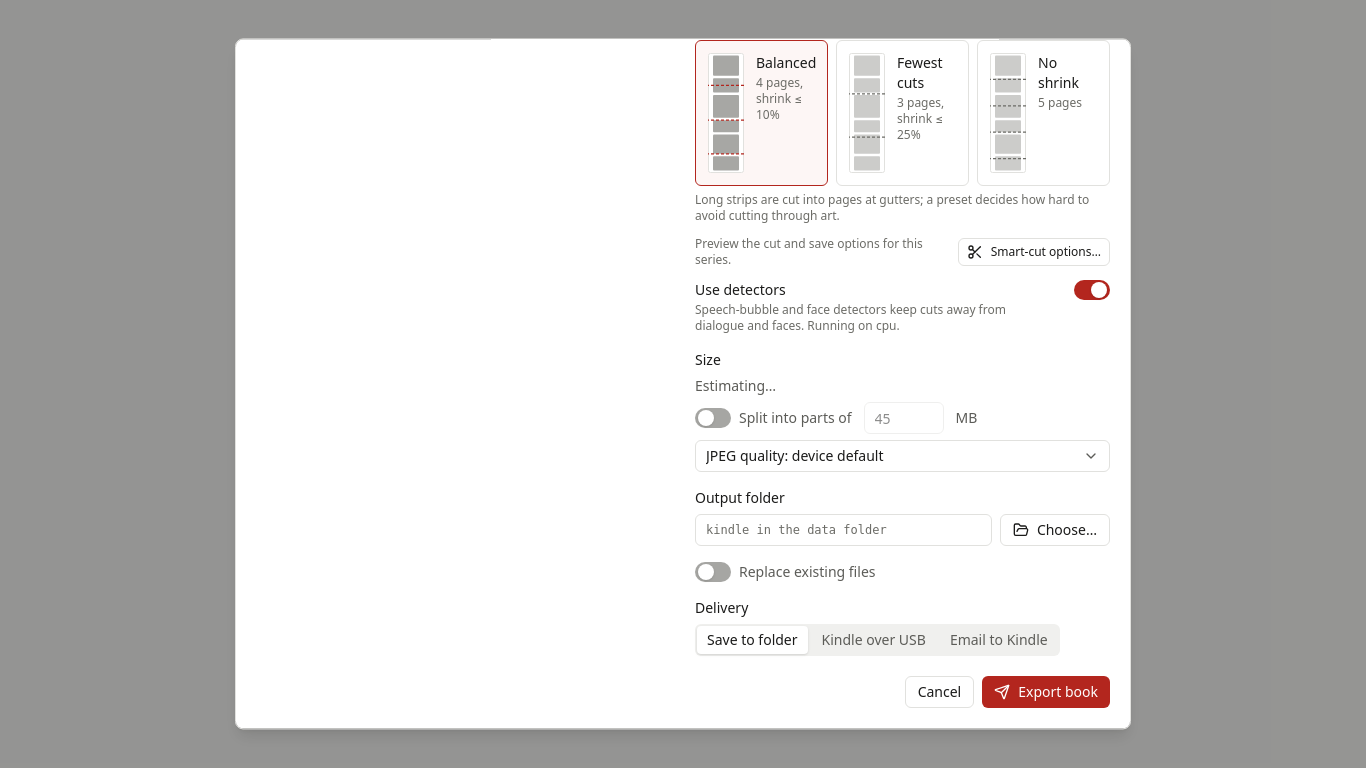
export dialog: a written book over the email limit › offers the levers of the book's plan: the quality that fits, none when none does
The width and height of the screenshot is (1366, 768).
Later steps or results of the test are not shown.
(page scrolled)
Click the button "Export book" at (1046, 692), box 982,676 -> 1110,708
(page scrolled)
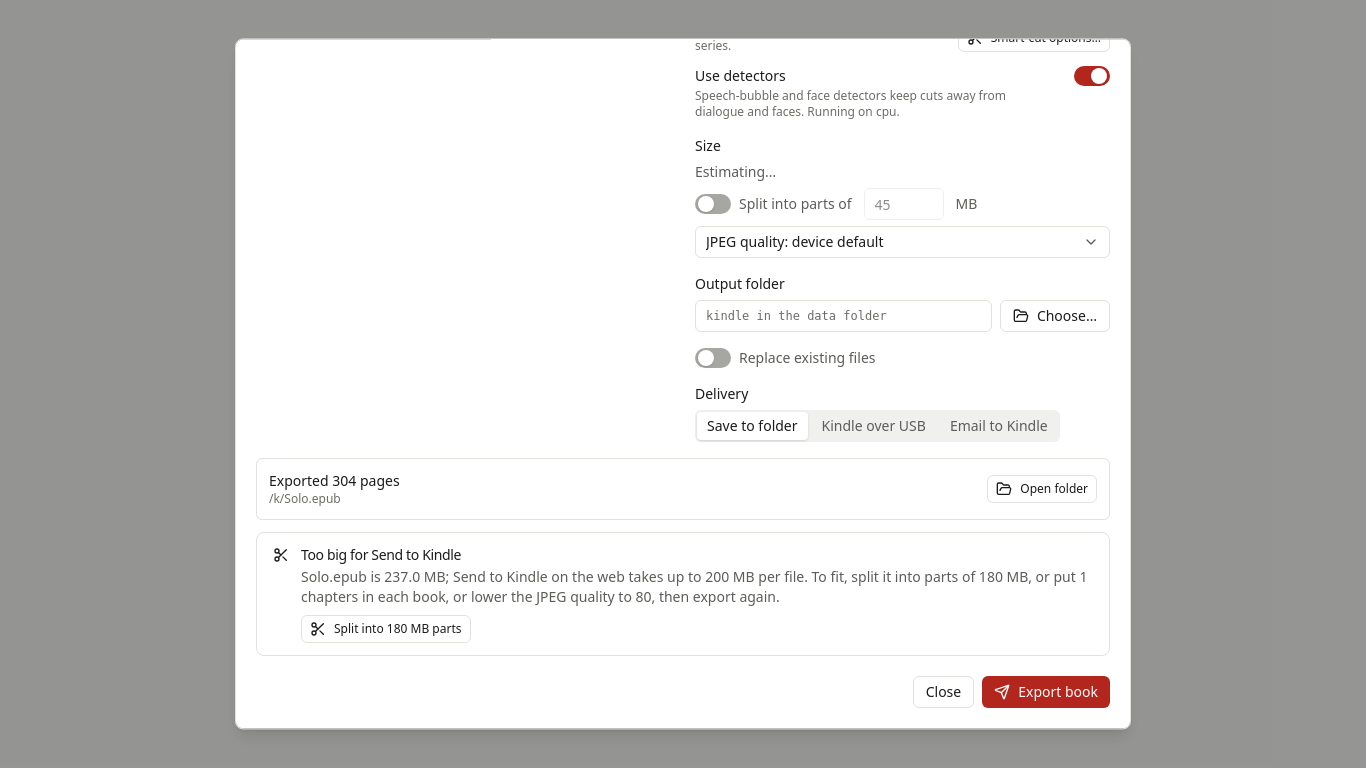
Check: the text "To fit, split it into parts of 180 MB, or put 1 chapters in each book, or lower the JPEG quality to 80, then export agai" is shown, box 301,567 -> 1088,606
